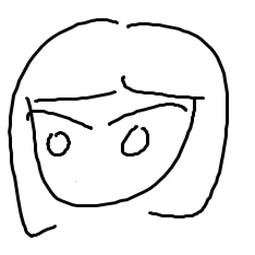empty_eye: (117, 121, 154, 164), (44, 131, 73, 158)
frowning_eyebrow: (103, 101, 188, 128), (26, 106, 96, 132)
